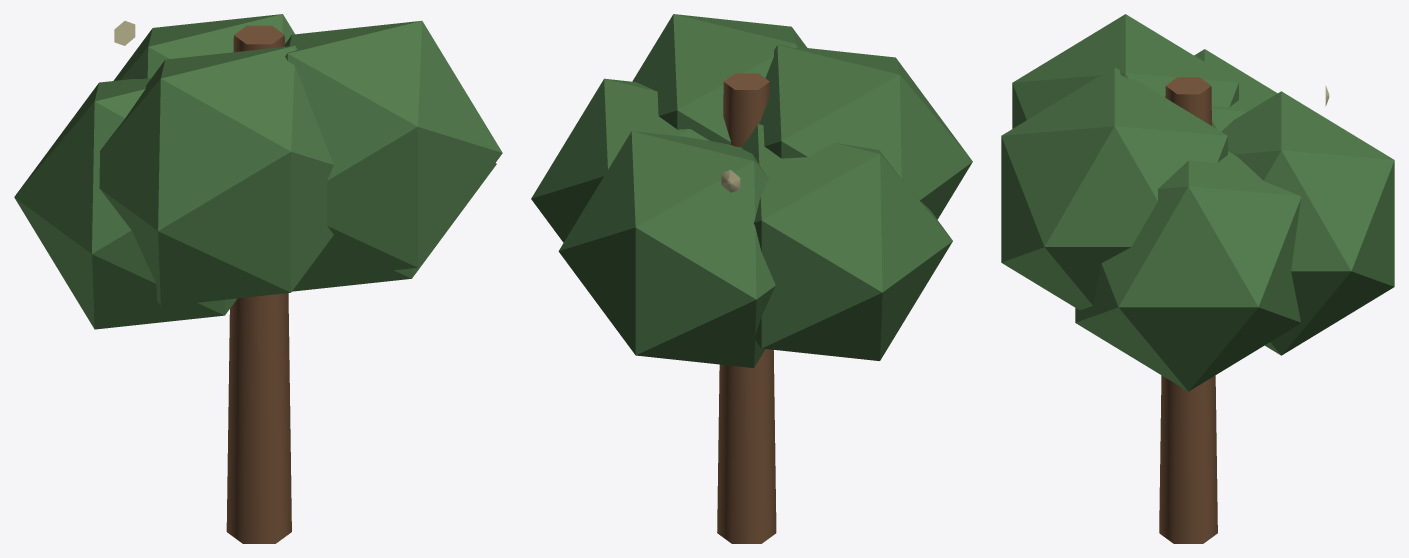
The model's file is crop-avocado-tree-stage-3-flowering.glb.
3 views of the same model, side by side, from view 1: azimuth 30°, elevation 25°; view 2: azimuth 150°, elevation 25°; view 3: azimuth 270°, elevation 25° (orthographic). The views are drawn at different scales.
Parts seen in each view (by area): view 1: crop-avocado-tree-stage-3-flowering-beach-foliage, crop-avocado-tree-stage-3-flowering-beach-trunk; view 2: crop-avocado-tree-stage-3-flowering-beach-foliage, crop-avocado-tree-stage-3-flowering-beach-trunk; view 3: crop-avocado-tree-stage-3-flowering-beach-foliage, crop-avocado-tree-stage-3-flowering-beach-trunk.
Part boxes in pixels (x1,y1,x2,y2): crop-avocado-tree-stage-3-flowering-beach-foliage: [14, 14, 502, 329]; crop-avocado-tree-stage-3-flowering-beach-trunk: [226, 25, 291, 543]; crop-avocado-tree-stage-3-flowering-beach-foliage: [531, 14, 972, 367]; crop-avocado-tree-stage-3-flowering-beach-trunk: [717, 73, 776, 543]; crop-avocado-tree-stage-3-flowering-beach-foliage: [1001, 14, 1394, 391]; crop-avocado-tree-stage-3-flowering-beach-trunk: [1159, 77, 1217, 543].
Size of the model in its own units: 1.79 by 2.21 by 1.71.
